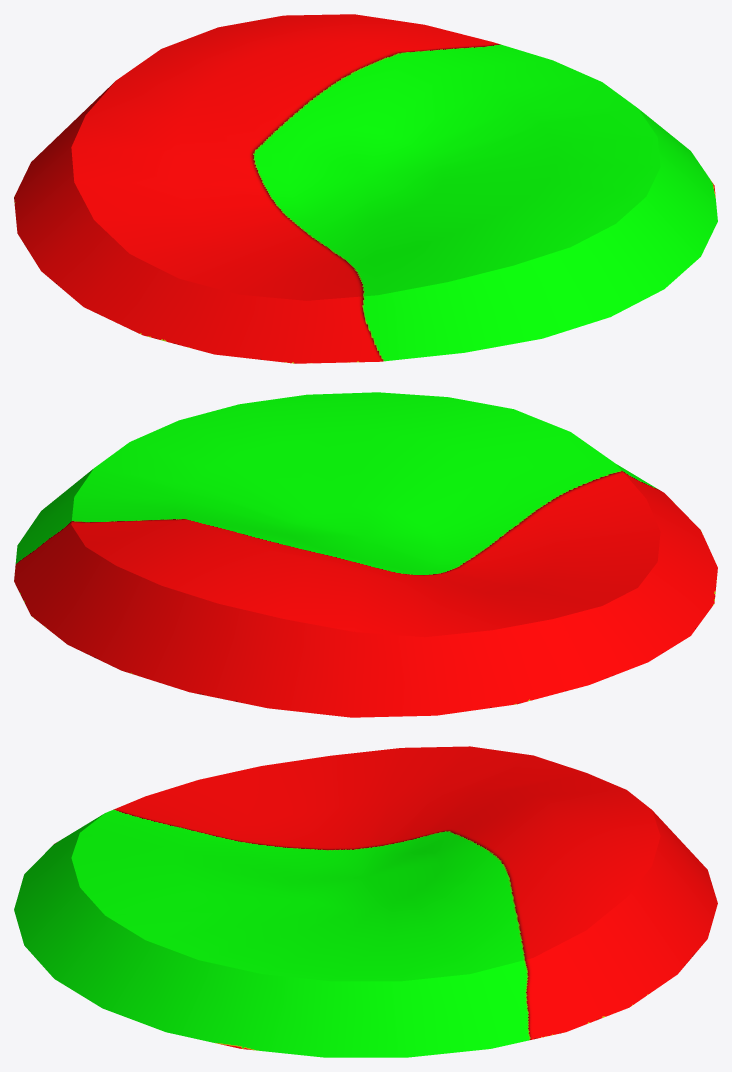
Rendered from GreyBox - Christian.fbx.
3 views of the same model, one above another, from view 1: azimuth 30°, elevation 25°; view 2: azimuth 150°, elevation 25°; view 3: azimuth 270°, elevation 25° (orthographic).
Visible parts, largest first — view 1: Cylinder; view 2: Cylinder; view 3: Cylinder.
Boxes of the visible parts, <box> form: Cylinder: <box>14,14,717,363</box>; Cylinder: <box>14,392,717,717</box>; Cylinder: <box>14,746,717,1057</box>.
Bounding box in the file's own units: 199 × 34.4 × 201.
